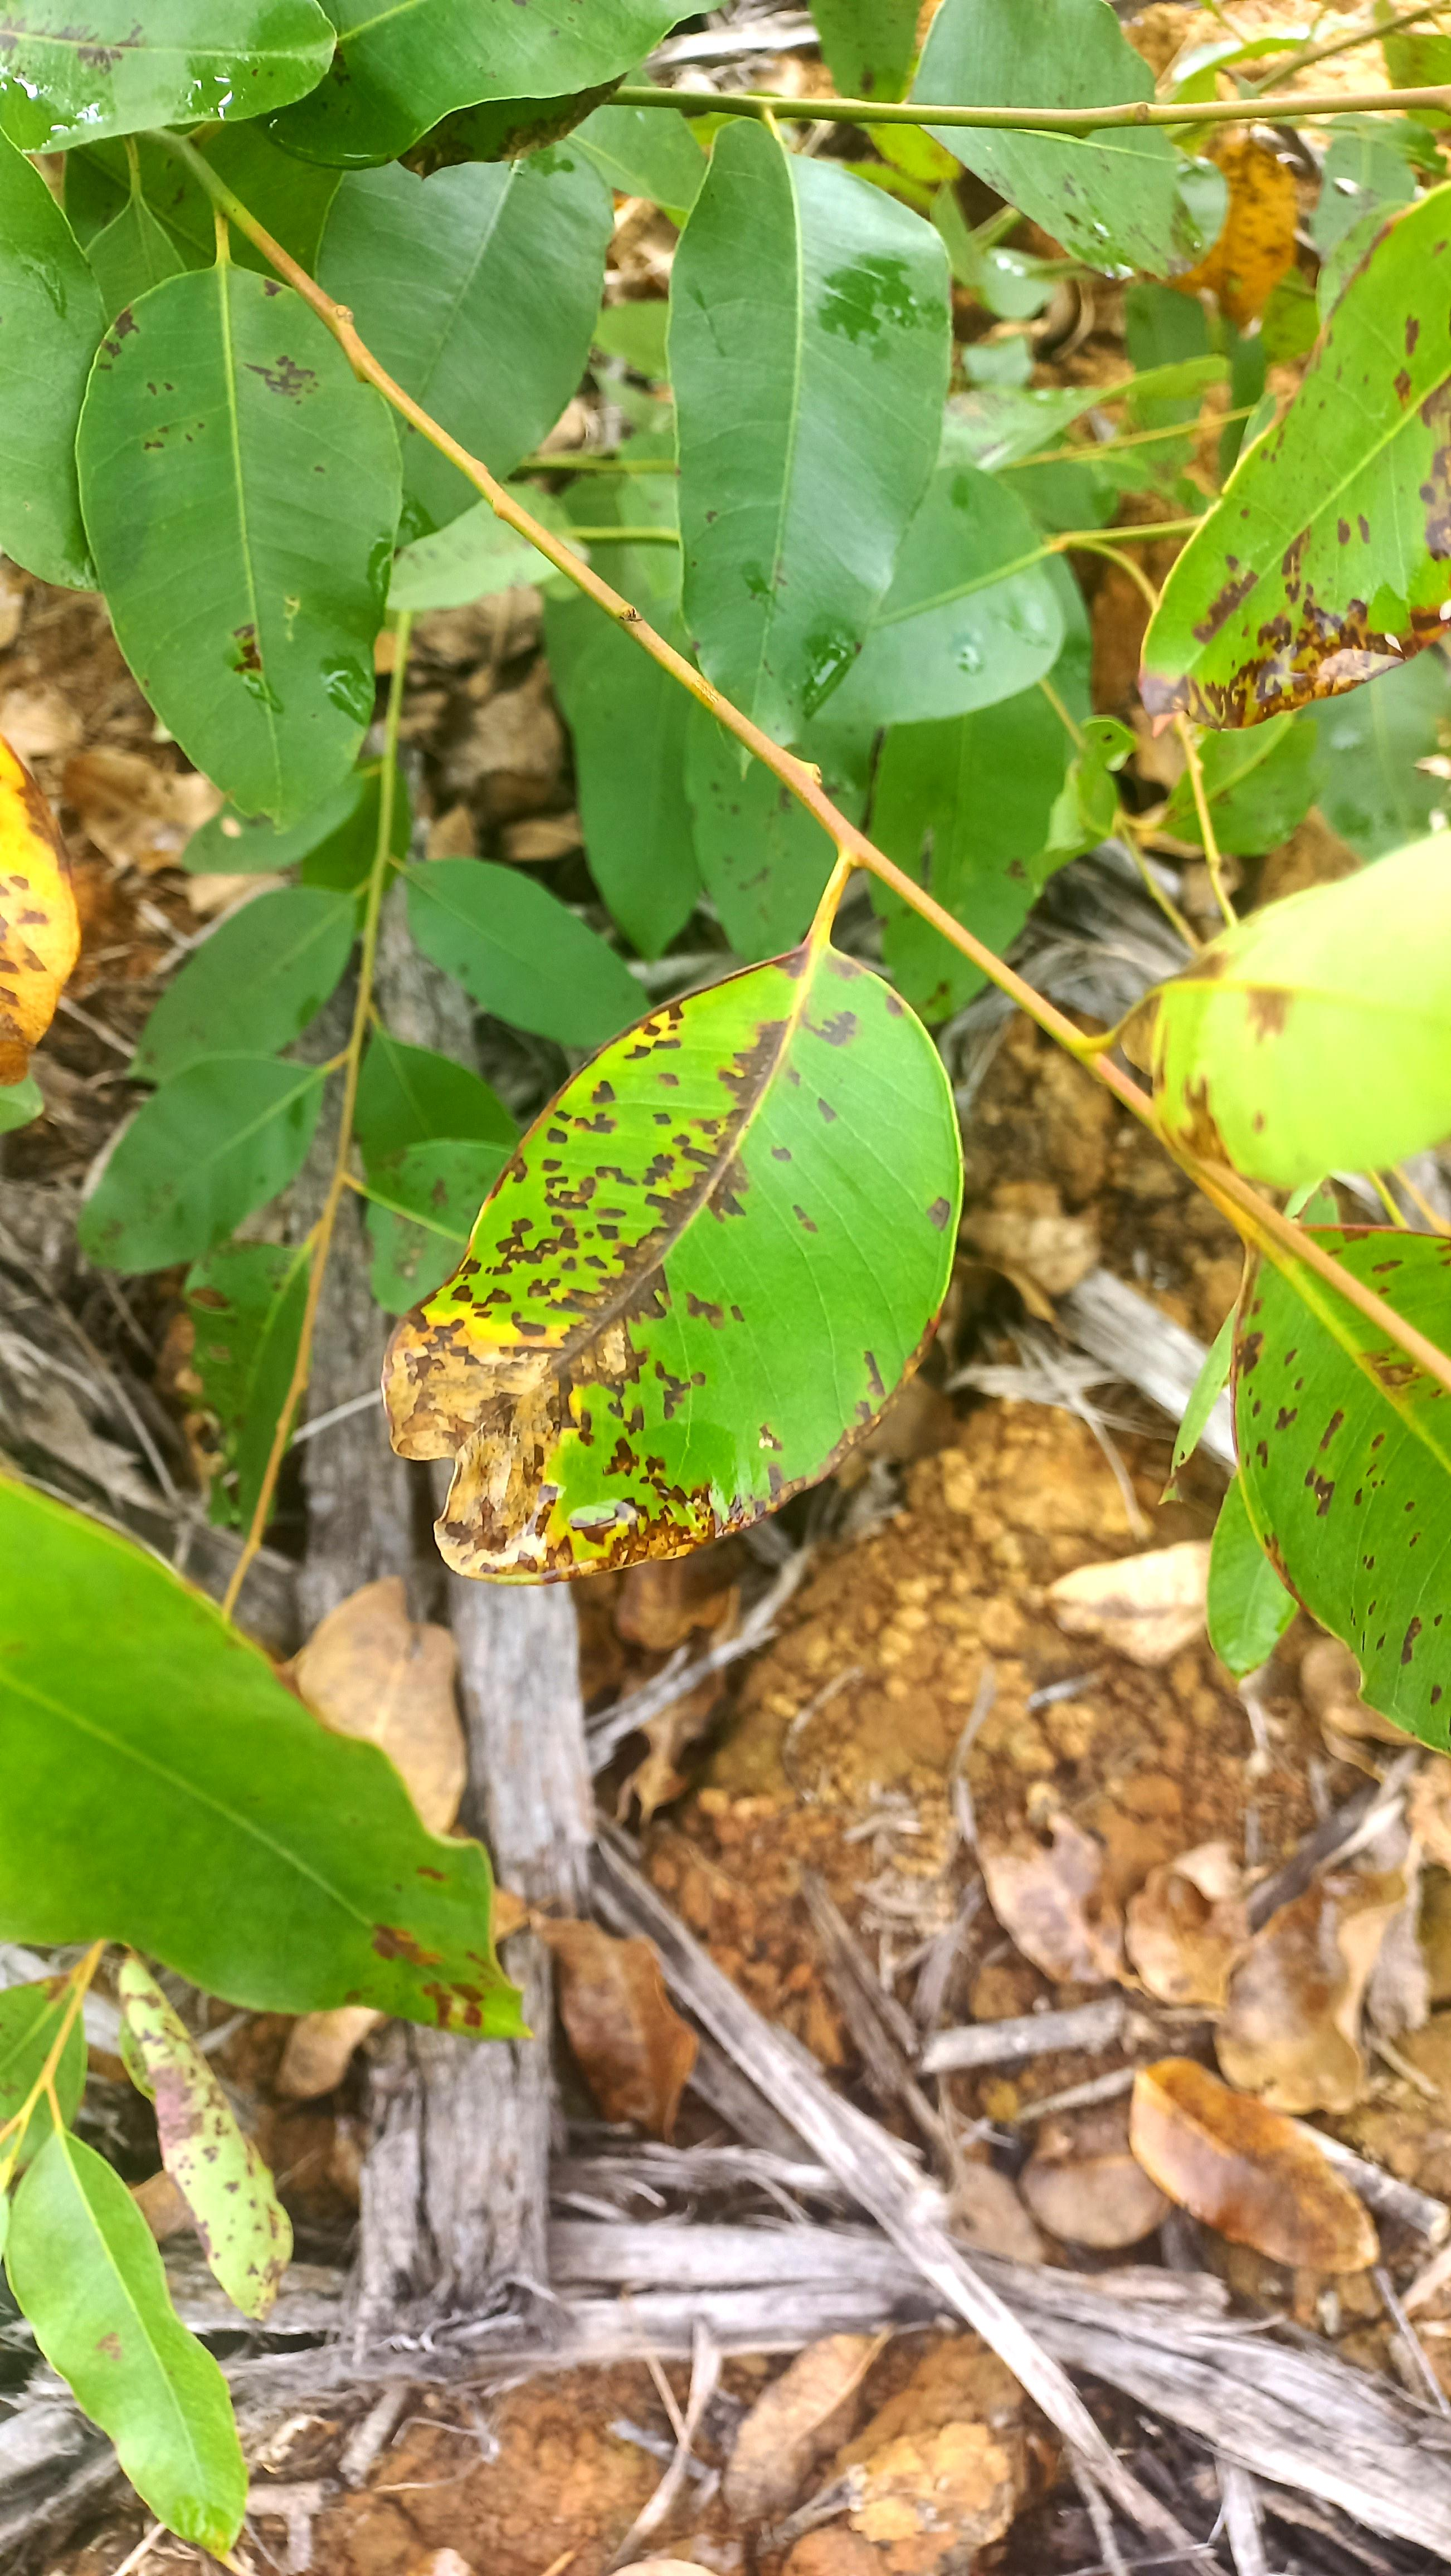Xanthomonas: (386, 948, 964, 1591), (1143, 179, 1451, 745), (1226, 1226, 1451, 1810), (96, 1943, 324, 2330), (0, 736, 113, 1097)
